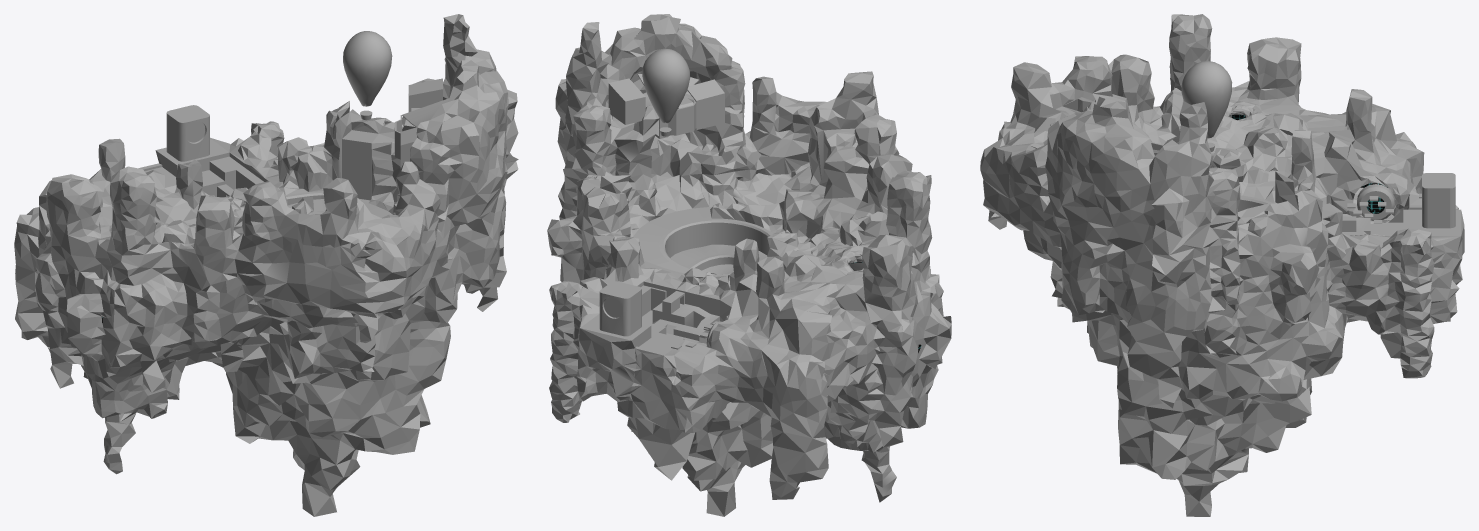
File: MapHologram.fbx
3 renders of one model, left to right at view 1: azimuth 30°, elevation 25°; view 2: azimuth 150°, elevation 25°; view 3: azimuth 270°, elevation 25°, orthographic. The views are drawn at different scales.
Parts seen in each view (by area): view 1: MapHologramMountains, MapHologramKiteWorkshop, MapHologramStreet, MapHologramWater, MapHologramClocktower; view 2: MapHologramMountains, MapHologramKiteWorkshop, MapHologramStreet, MapHologramGeneratorSpiral, MapHologramWater, MapHologramClocktower; view 3: MapHologramMountains, MapHologramStreet, MapHologramKiteWorkshop, MapHologramClocktower.
Boxes of the visible parts, box(x1,y1,x2,y2) form: MapHologramMountains: box(14, 14, 518, 516); MapHologramKiteWorkshop: box(343, 31, 449, 168); MapHologramStreet: box(138, 138, 268, 197); MapHologramWater: box(288, 130, 392, 217); MapHologramClocktower: box(166, 105, 209, 161); MapHologramMountains: box(547, 14, 951, 516); MapHologramKiteWorkshop: box(608, 48, 724, 138); MapHologramStreet: box(580, 281, 721, 355); MapHologramGeneratorSpiral: box(643, 218, 772, 276); MapHologramWater: box(633, 128, 854, 274); MapHologramClocktower: box(599, 281, 641, 336); MapHologramMountains: box(980, 14, 1464, 516); MapHologramStreet: box(1342, 184, 1461, 235); MapHologramKiteWorkshop: box(1151, 61, 1232, 155); MapHologramClocktower: box(1422, 173, 1455, 228).
Bounding box in the file's own units: 139 × 146 × 134.
Materials: 8 (1 with a texture image).
